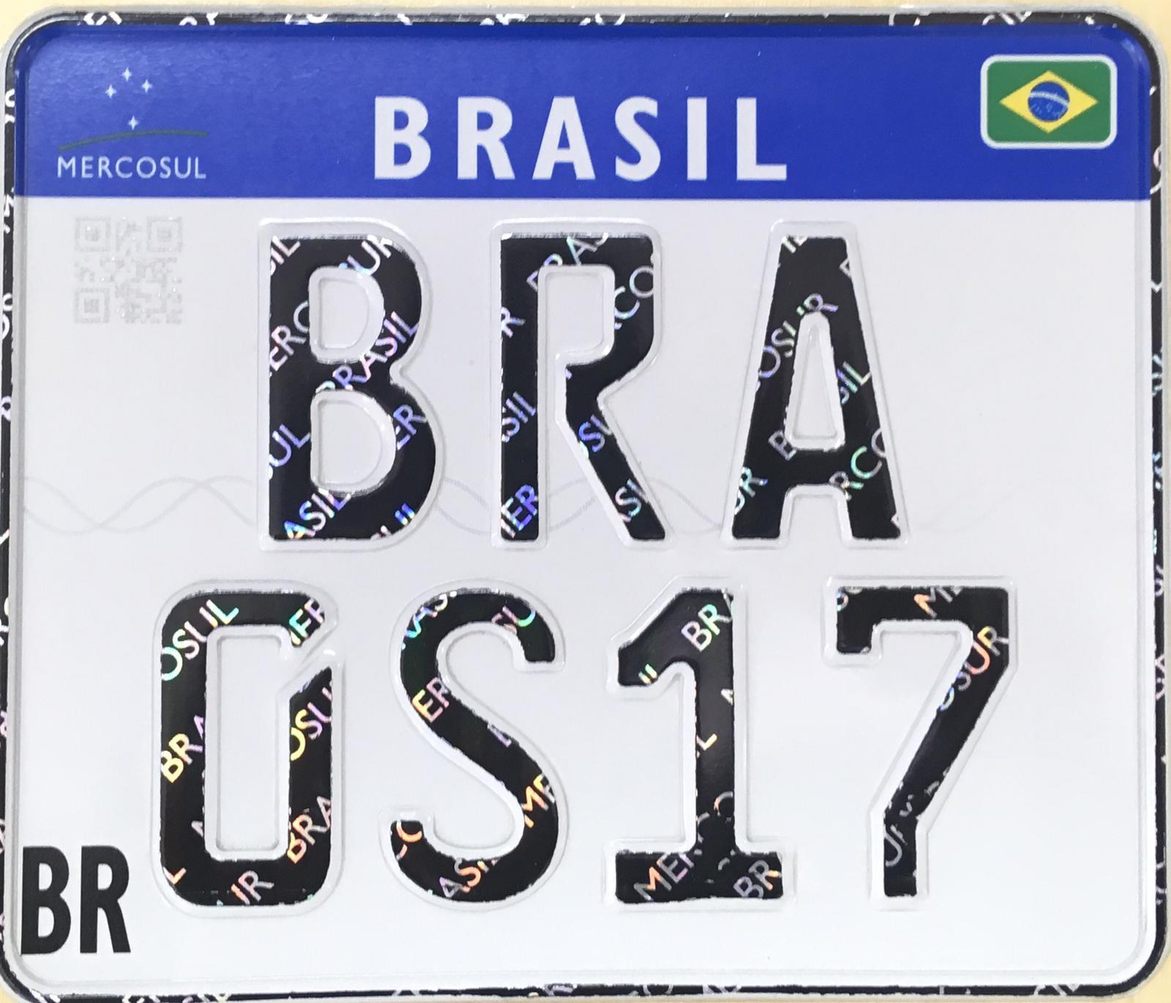Placa_mercosul_carro: (1, 29, 1151, 987)
